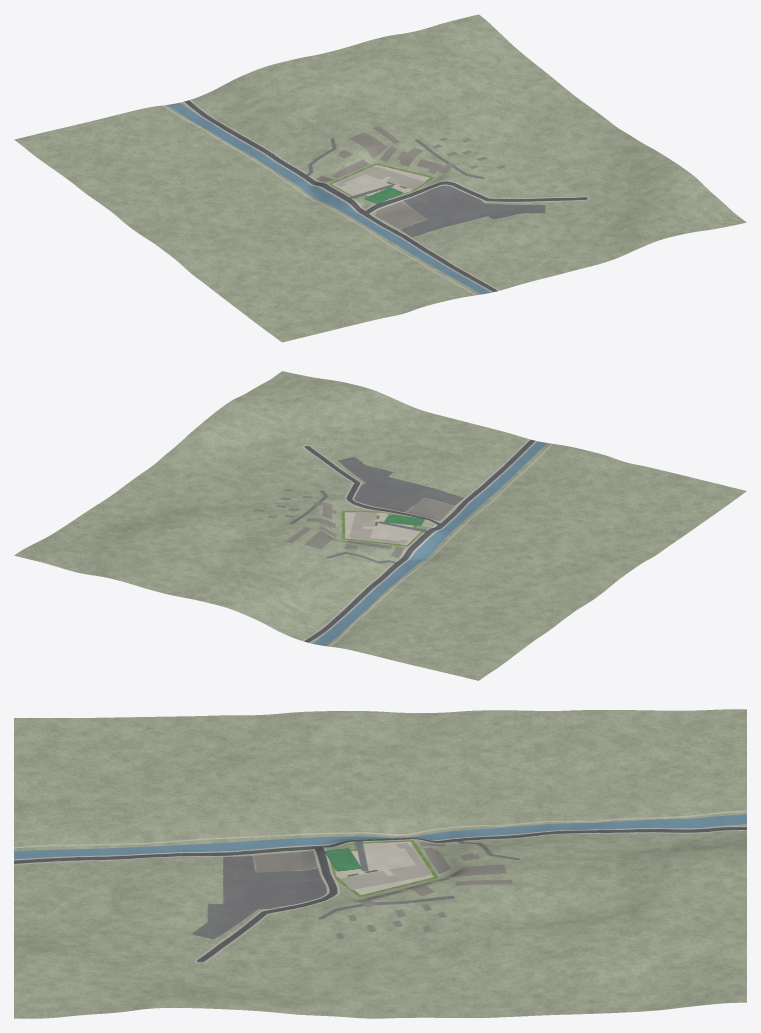
The picture shows the model from 3 angles, top to bottom: view 1: azimuth 30°, elevation 25°; view 2: azimuth 150°, elevation 25°; view 3: azimuth 270°, elevation 25°; orthographic projection. The views are drawn at different scales.
Parts seen in each view (by area): view 1: ground-area, ground-school; view 2: ground-area, ground-school; view 3: ground-area, ground-school.
Part boxes in pixels (x1,y1,x2,y2): ground-area: (14, 14, 746, 342); ground-school: (288, 134, 474, 221); ground-area: (14, 371, 746, 680); ground-school: (283, 491, 468, 569); ground-area: (14, 709, 746, 1018); ground-school: (300, 831, 469, 910).
Size of the model in its own units: 624 by 27.73 by 624.
2 materials, 2 textured.
